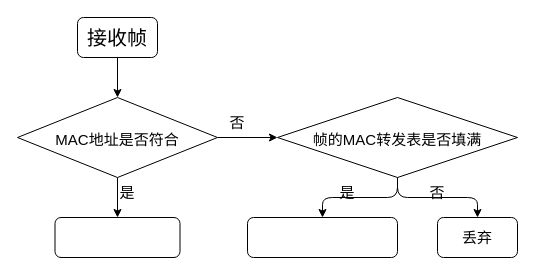
The diagram is 535 pixels wide and 275 high, and some of its shapes have lost their labels. The shapes that lost their labels are listed below. From the top down, each one's centre as x and y in pixels, then its label:
At pixel 117 237: "解析后上发网络层".
At pixel 322 237: "填入MAC地址并转发".
